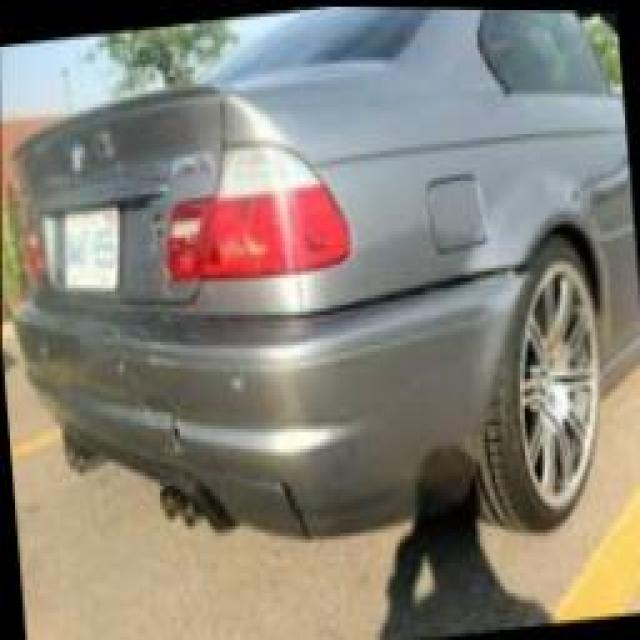Bumper: (272, 255, 531, 476)
